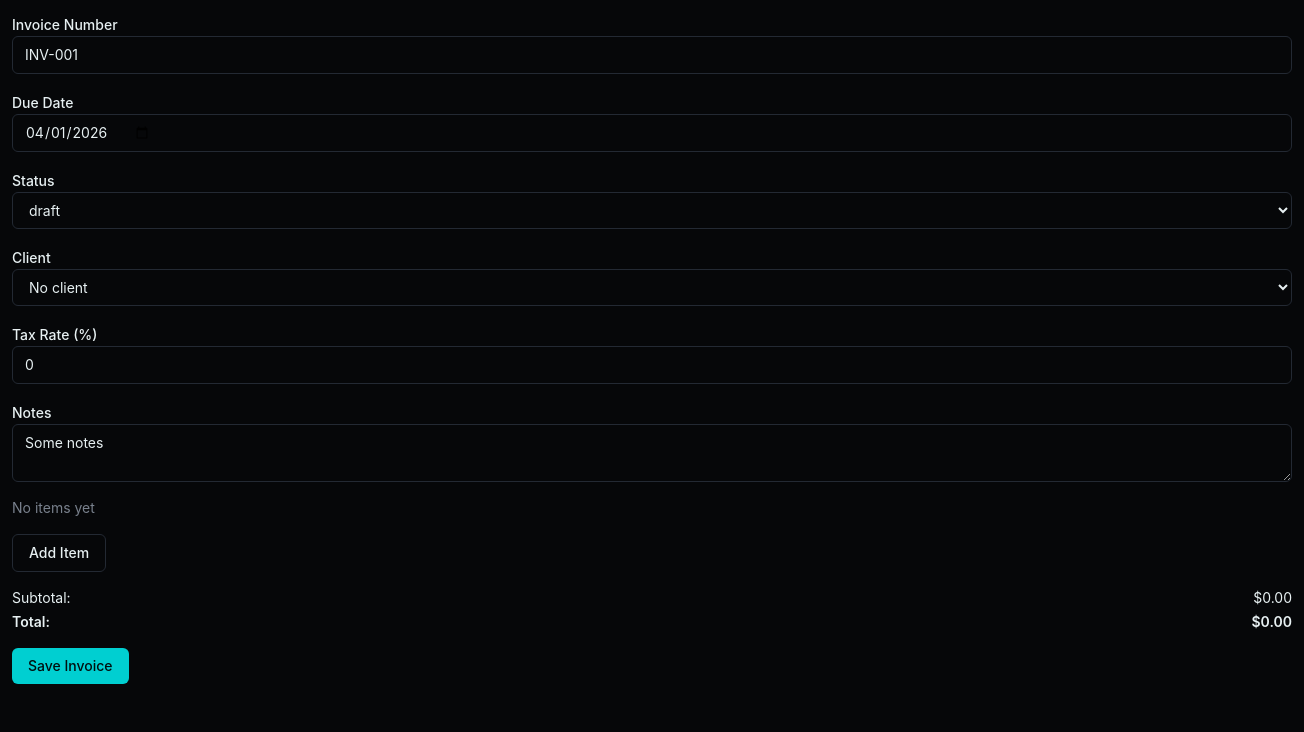
Scenario: EditInvoicePage › should display error message on failed update
Replace the text in the field labelled "Invoice Number" with "INV-002" at (652,55), box [12,36,1292,74]
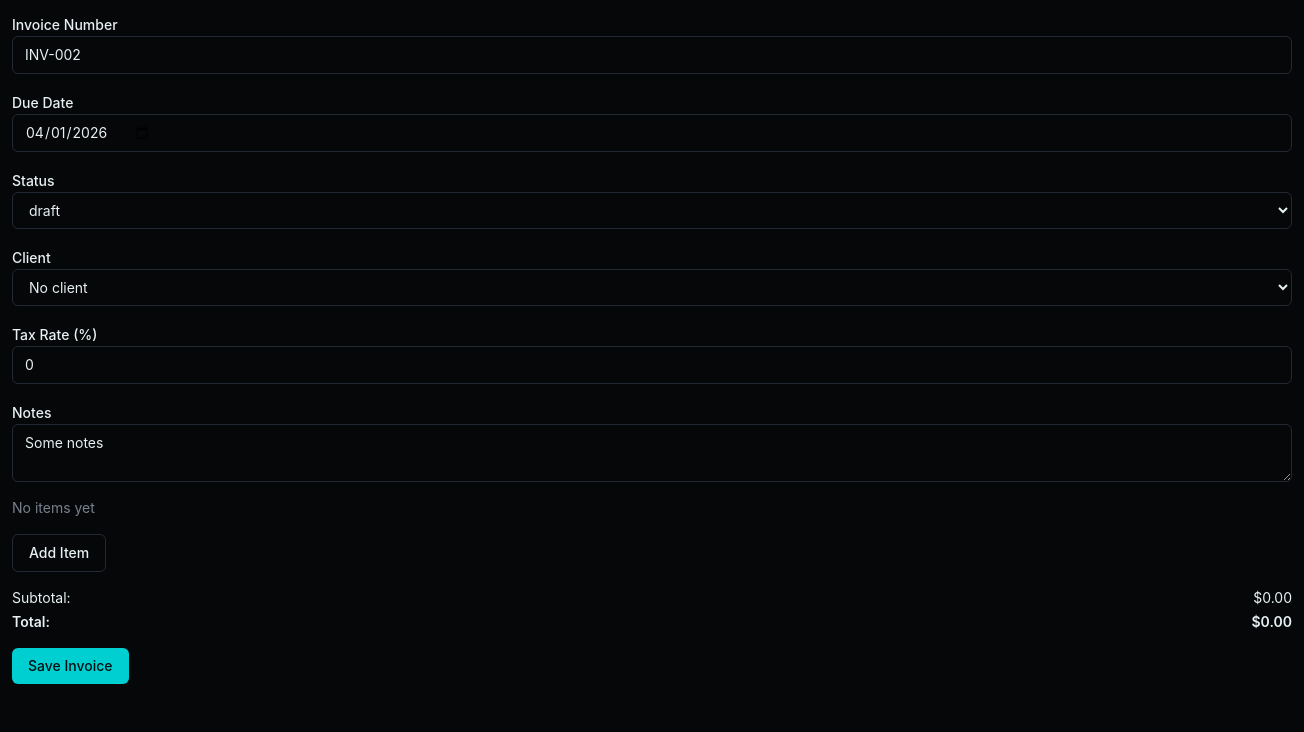
Type "2026-05-01" into the date field labelled "Due Date" at (652,133), box [12,114,1292,152]
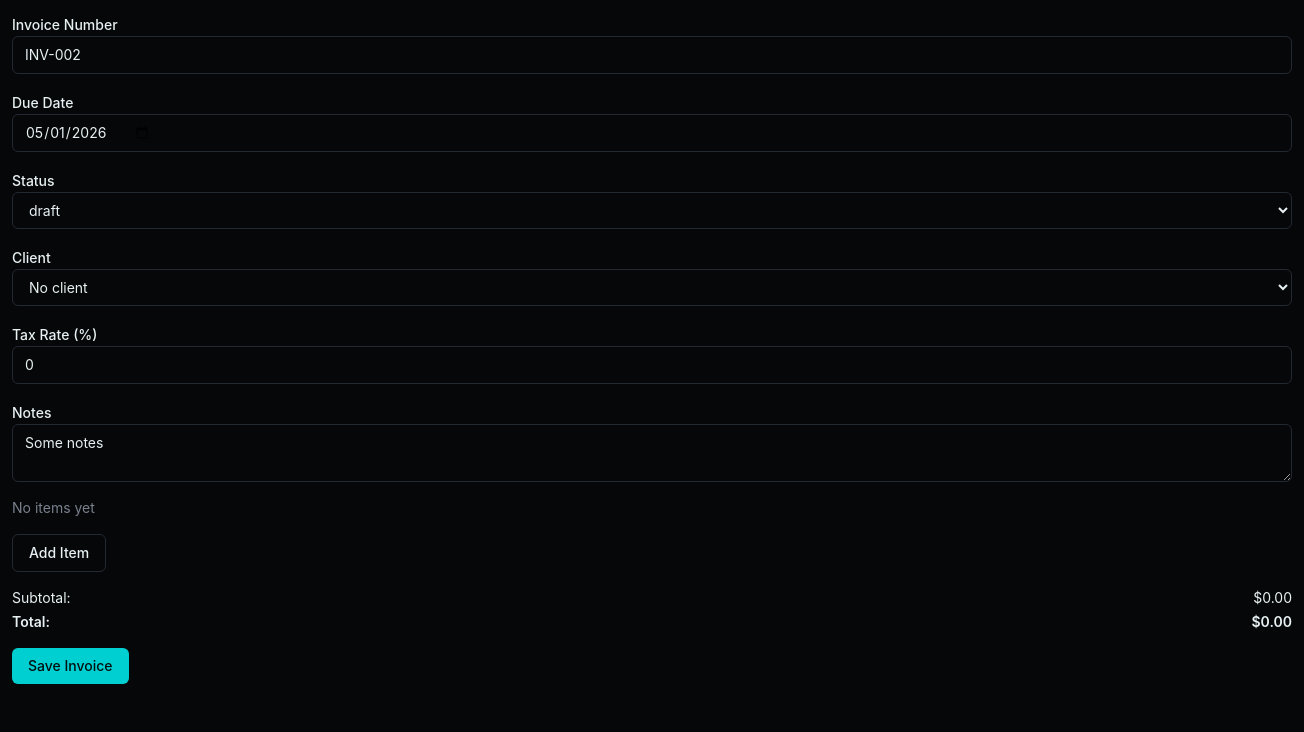
Click the button "Save Invoice" at (70,666), box [12,648,129,684]
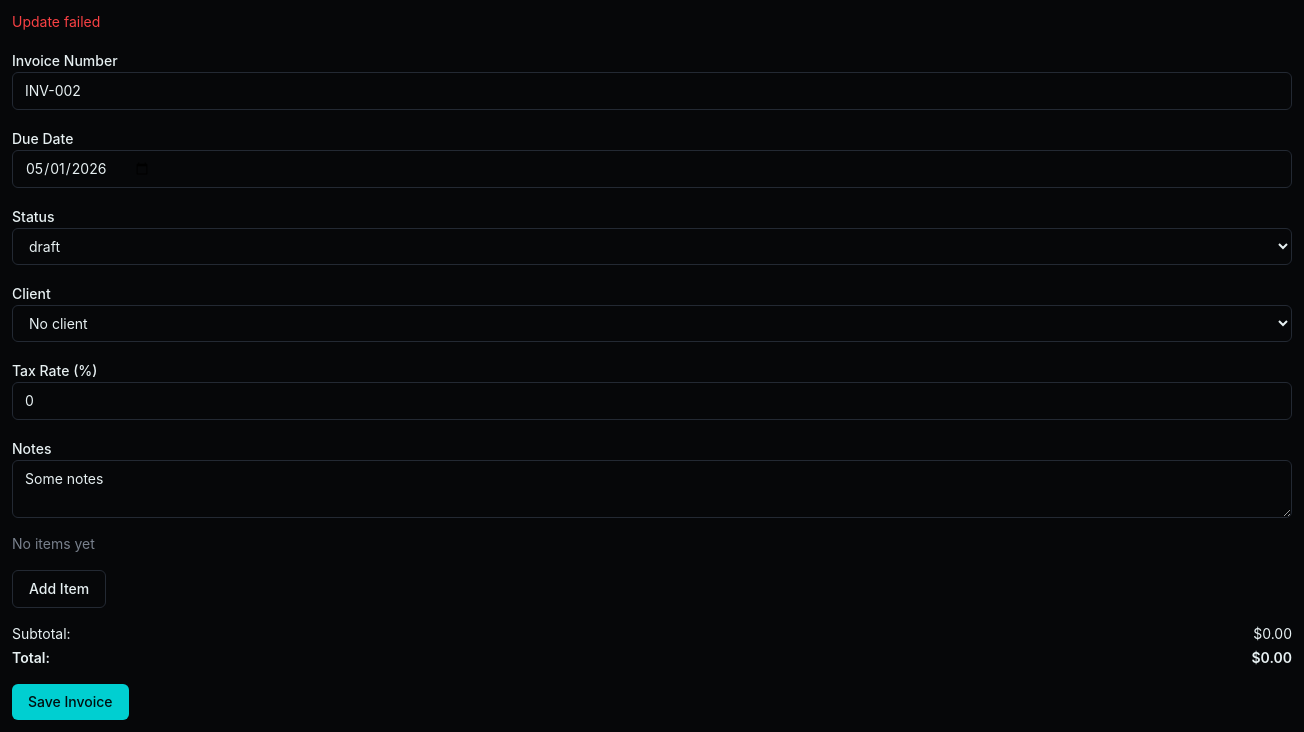
Expected: the text "Update failed" is shown, [12,13,100,30]
